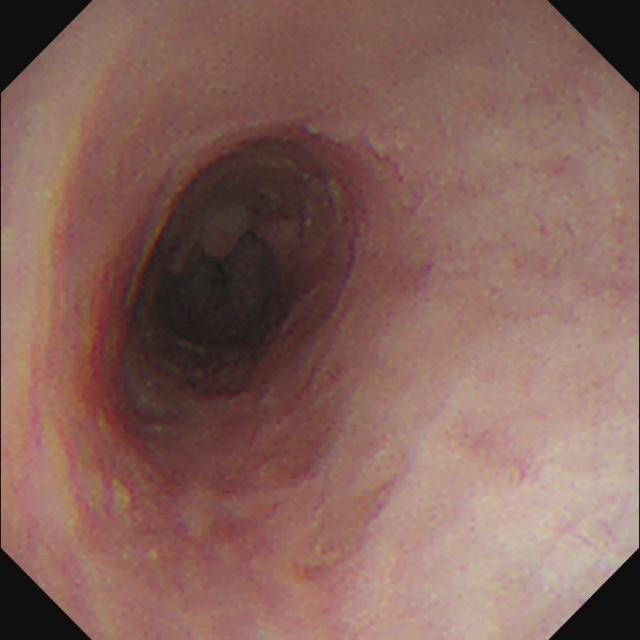A: (193, 162, 366, 264)
E: (152, 252, 290, 353)
